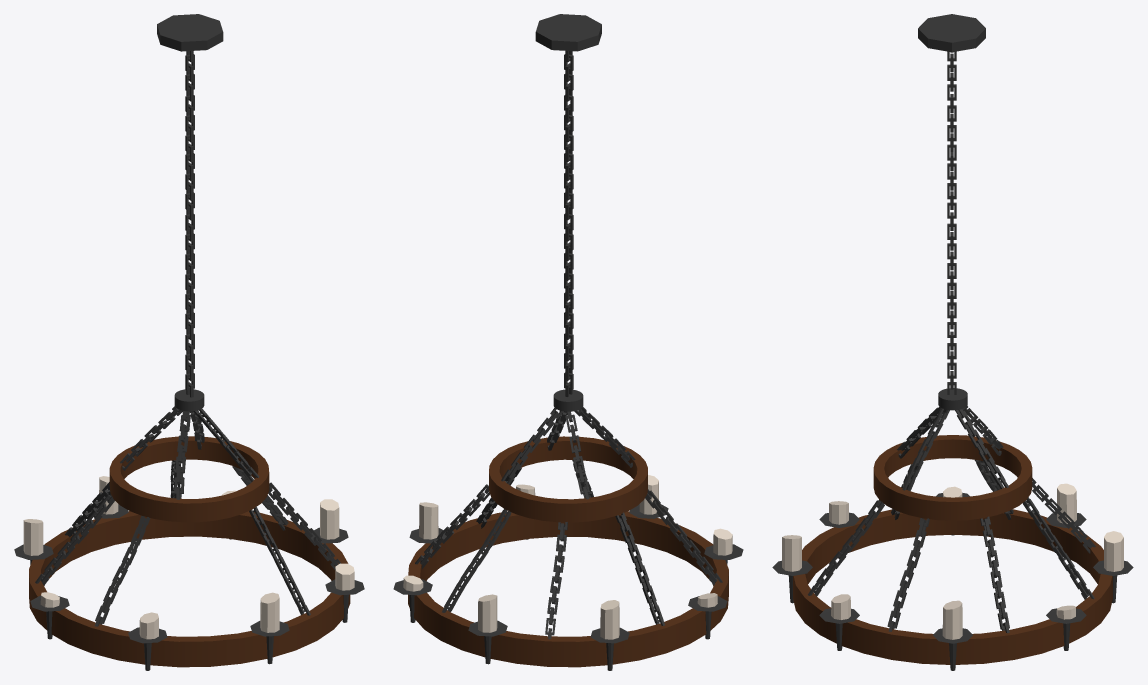
The model's file is Chandelier.fbx.
3 views of the same model, side by side, from view 1: azimuth 30°, elevation 25°; view 2: azimuth 150°, elevation 25°; view 3: azimuth 270°, elevation 25° (orthographic).
Visible parts, largest first — view 1: Chandelier; view 2: Chandelier; view 3: Chandelier.
Part boxes in pixels (x1,y1,x2,y2): Chandelier: [14, 14, 364, 670]; Chandelier: [393, 14, 743, 670]; Chandelier: [772, 14, 1133, 670].
Bounding box in the file's own units: 182 × 318 × 182.
